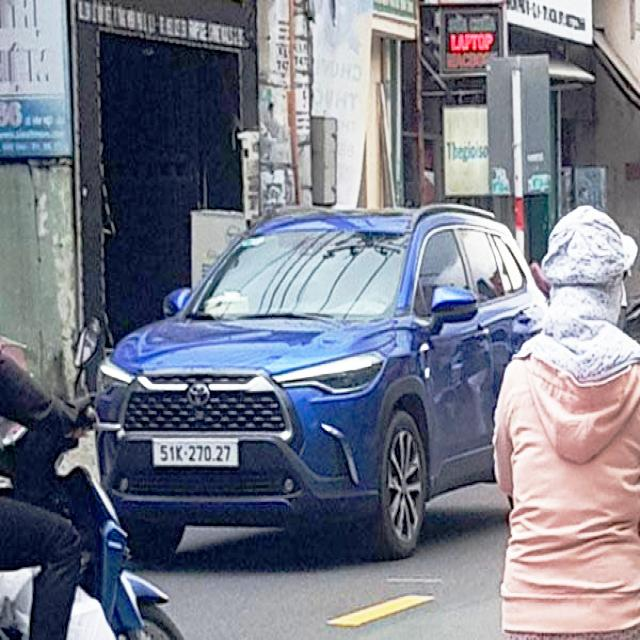license_plate: (156, 440, 238, 466)
